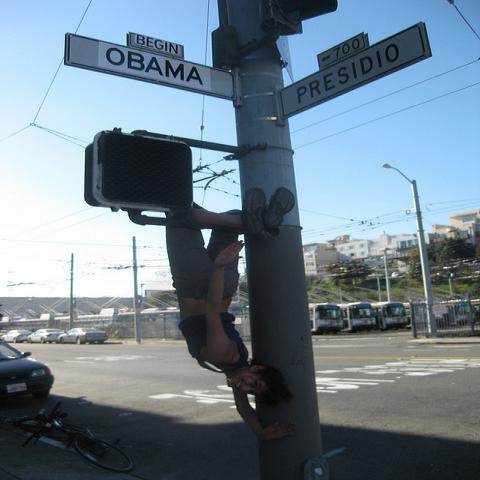bus: (432, 298, 479, 327), (308, 303, 346, 335), (339, 301, 378, 332), (370, 302, 408, 330), (402, 302, 412, 327)
car: (2, 340, 55, 406), (55, 327, 108, 345), (27, 329, 63, 344), (1, 330, 35, 342)
